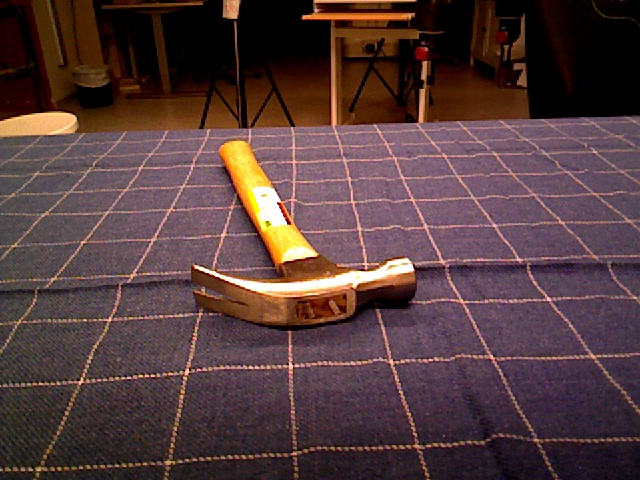hammer1: (190, 139, 418, 331)
